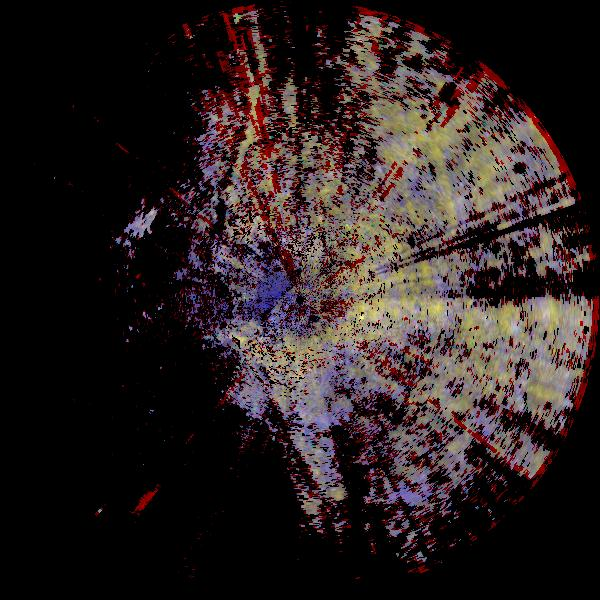roost: (259, 331, 349, 421)
